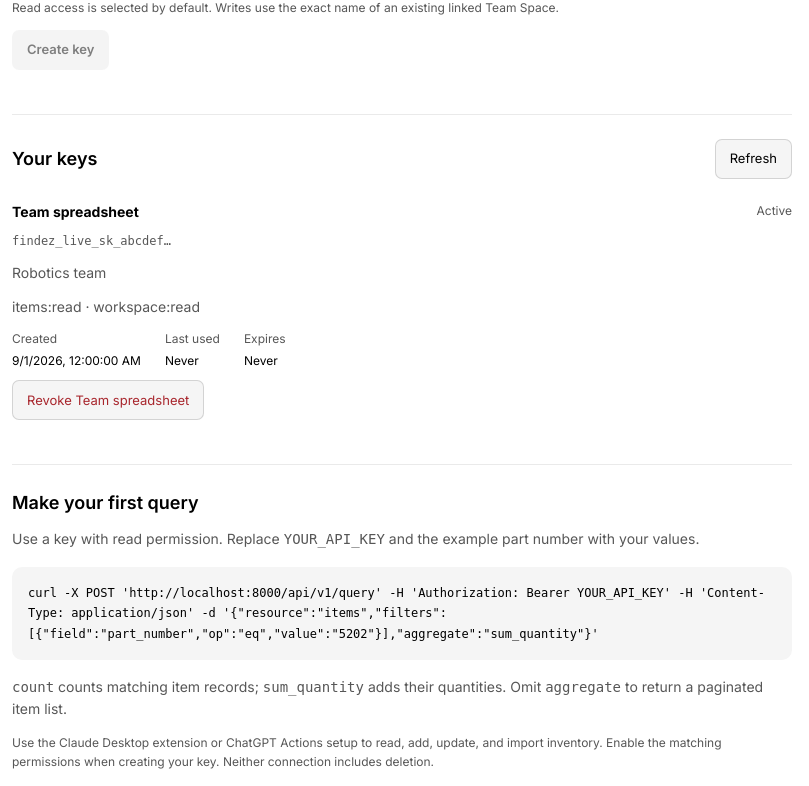
Test: successful revocation updates the key status
This screenshot has width=809, height=786.
(page scrolled)
Click the button "Revoke Team spreadsheet" at (108, 400), box x1=12 y1=380 x2=204 y2=420
(page scrolled)
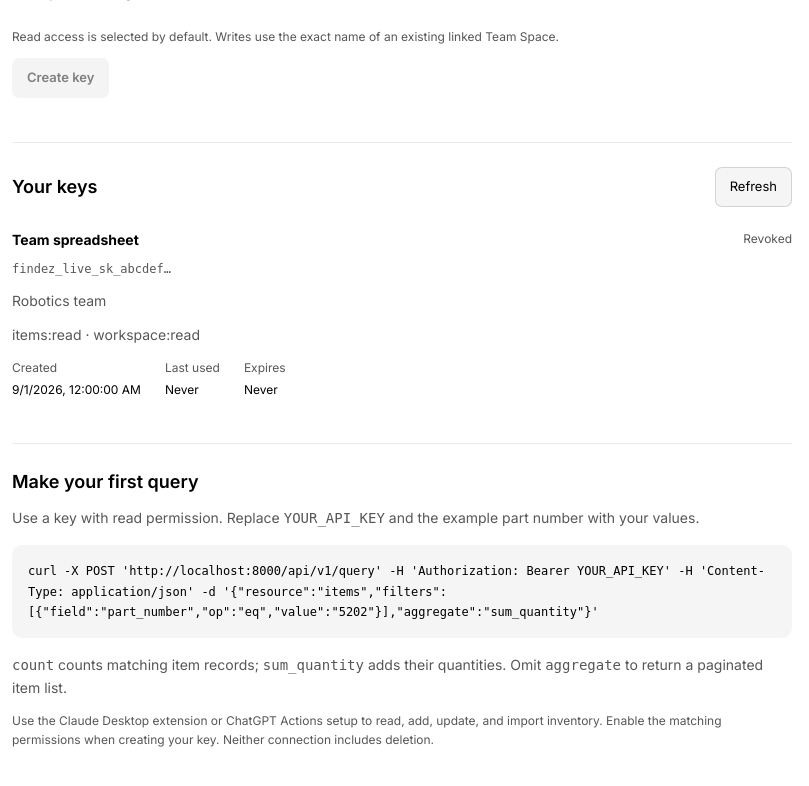
Expected: the text "Revoked" is shown, x1=743 y1=230 x2=792 y2=248
Expected: the button "Revoke Team spreadsheet" is gone
